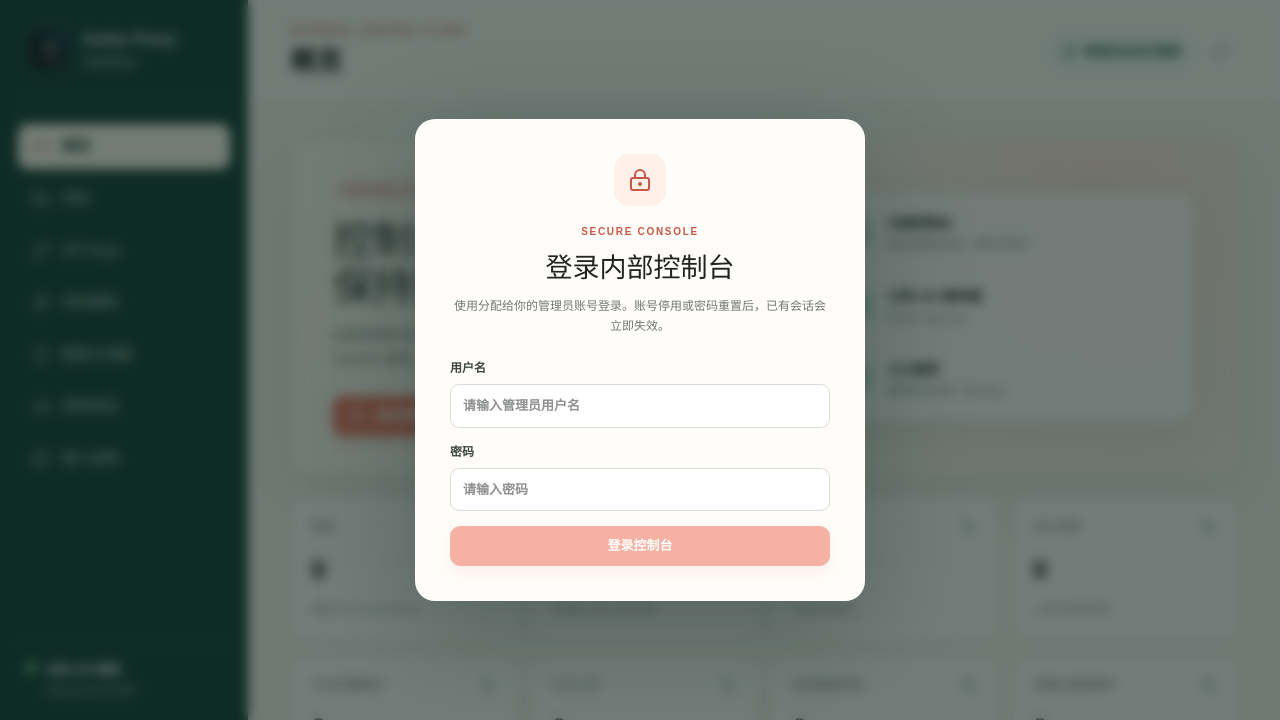
Test: 内部控制台 › 已禁用管理员输入正确密码时展示账号禁用提示
The image size is (1280, 720).
Expected: the heading "登录内部控制台" is shown, 546,253 -> 734,283
Type "operator" into the field labelled "用户名" at (640, 406), box 450,384 -> 830,428
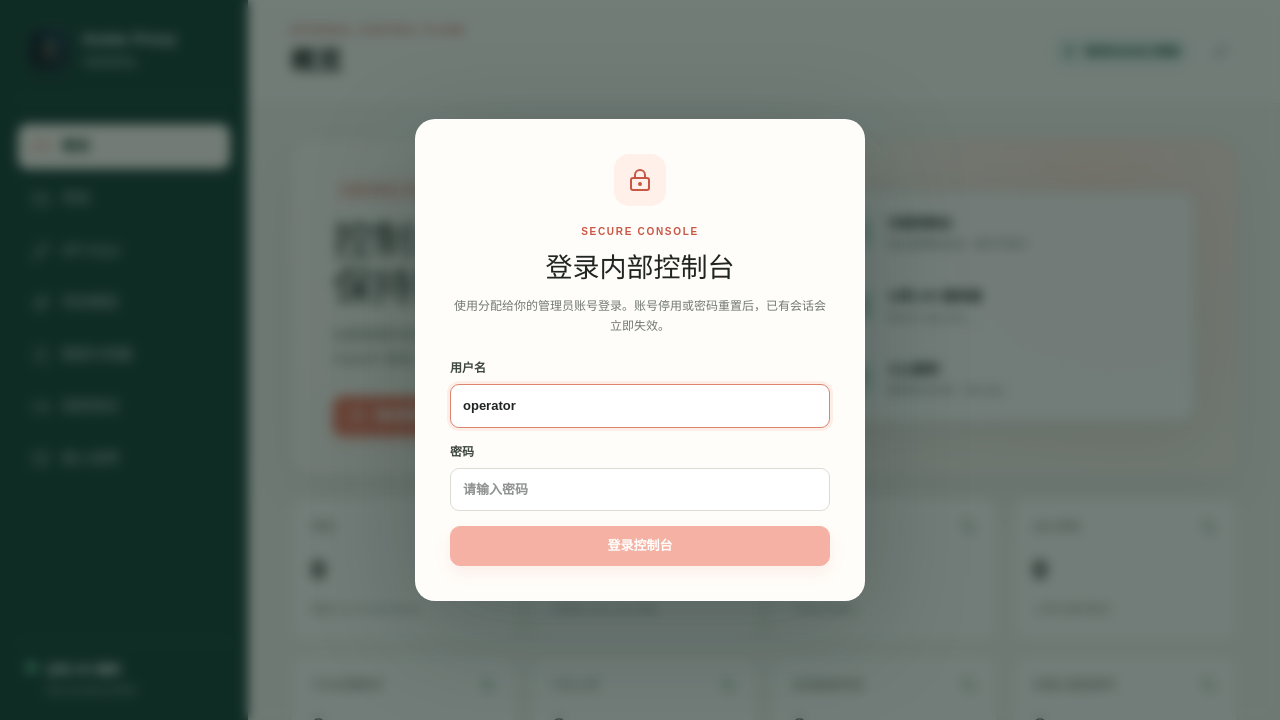
Type "correct-password" into the password field labelled "密码" at (640, 489), box 450,468 -> 830,511
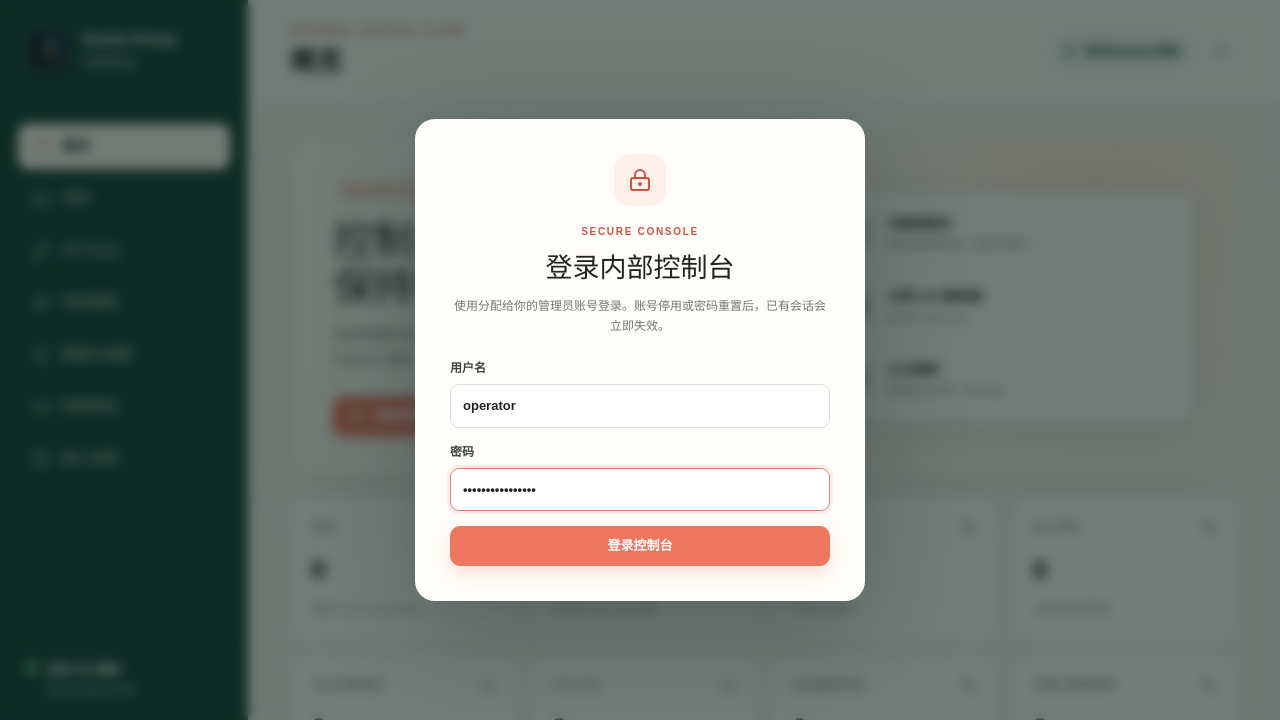
Click the button "登录控制台" at (640, 546), box 450,526 -> 830,566
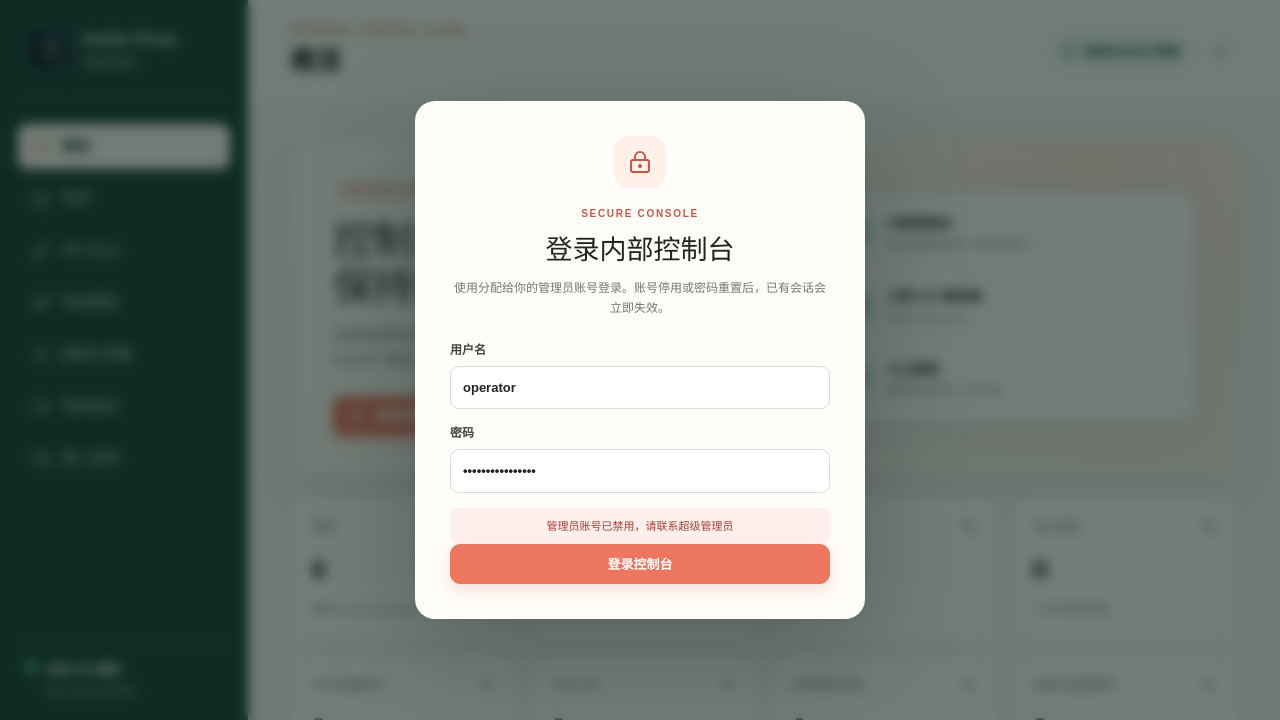
Expected: the message shows "账号已禁用", 546,520 -> 734,532
